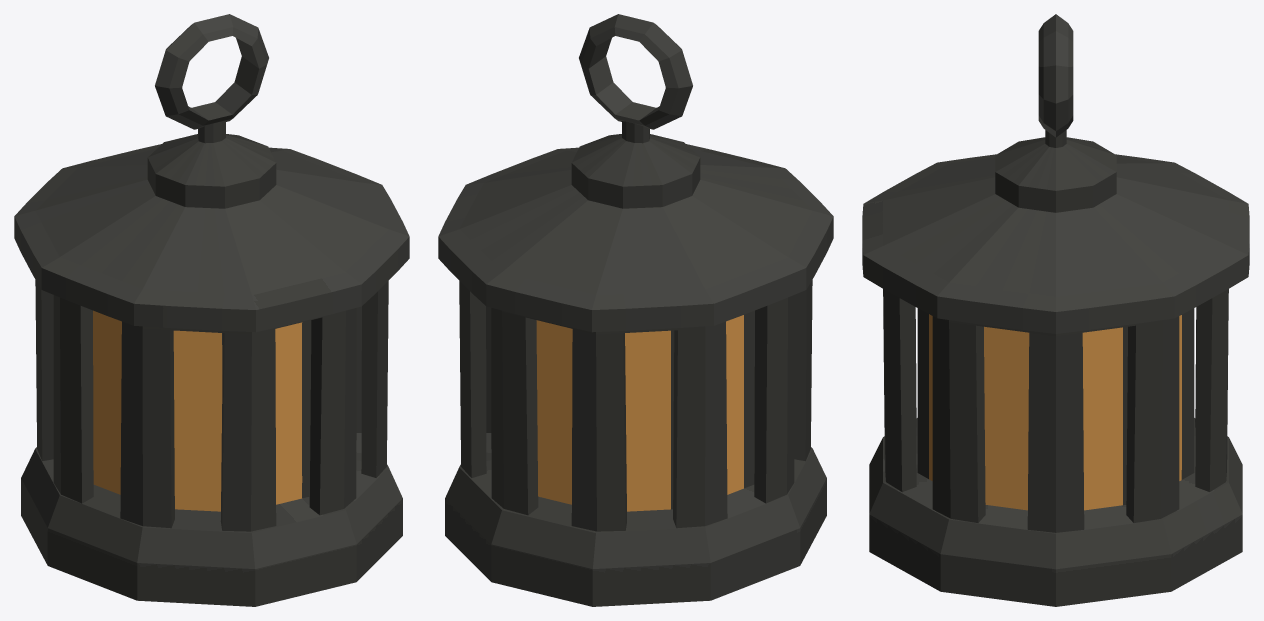
The model's file is Lantern.gltf.
3 views of the same model, side by side, from view 1: azimuth 30°, elevation 25°; view 2: azimuth 150°, elevation 25°; view 3: azimuth 270°, elevation 25° (orthographic).
Visible parts, largest first — view 1: cylinder, torus; view 2: cylinder, torus; view 3: cylinder, torus.
Part boxes in pixels (x1,y1,x2,y2): cylinder: [14, 121, 409, 606]; torus: [155, 14, 268, 129]; cylinder: [438, 121, 833, 606]; torus: [579, 14, 692, 129]; cylinder: [862, 130, 1249, 606]; torus: [1038, 14, 1073, 137].
Bounding box in the file's own units: 0.3532 × 0.5344 × 0.35.
Materials: 1 (1 with a texture image).
